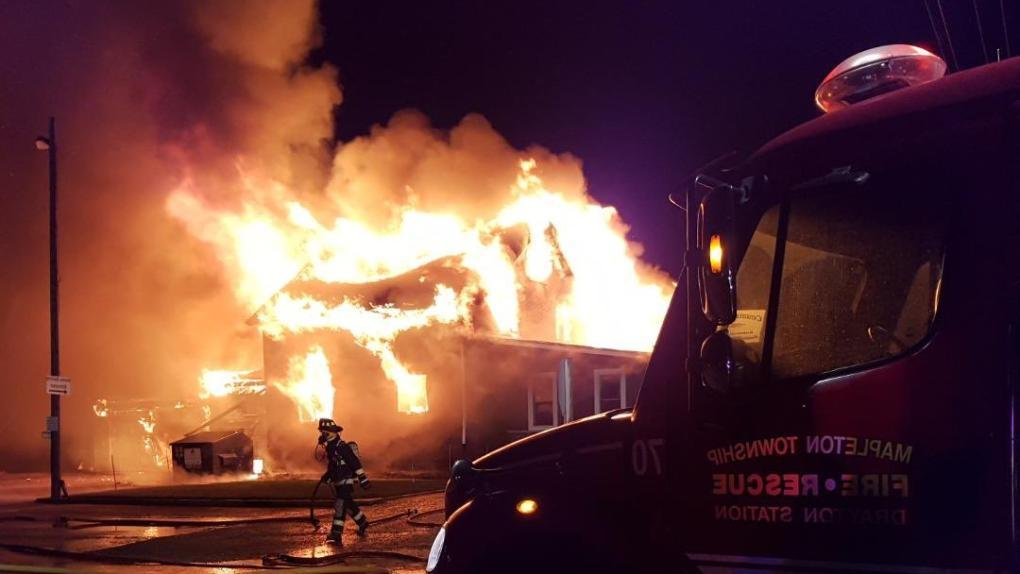Fire: (168, 159, 685, 411), (139, 410, 158, 435), (92, 397, 112, 417)
